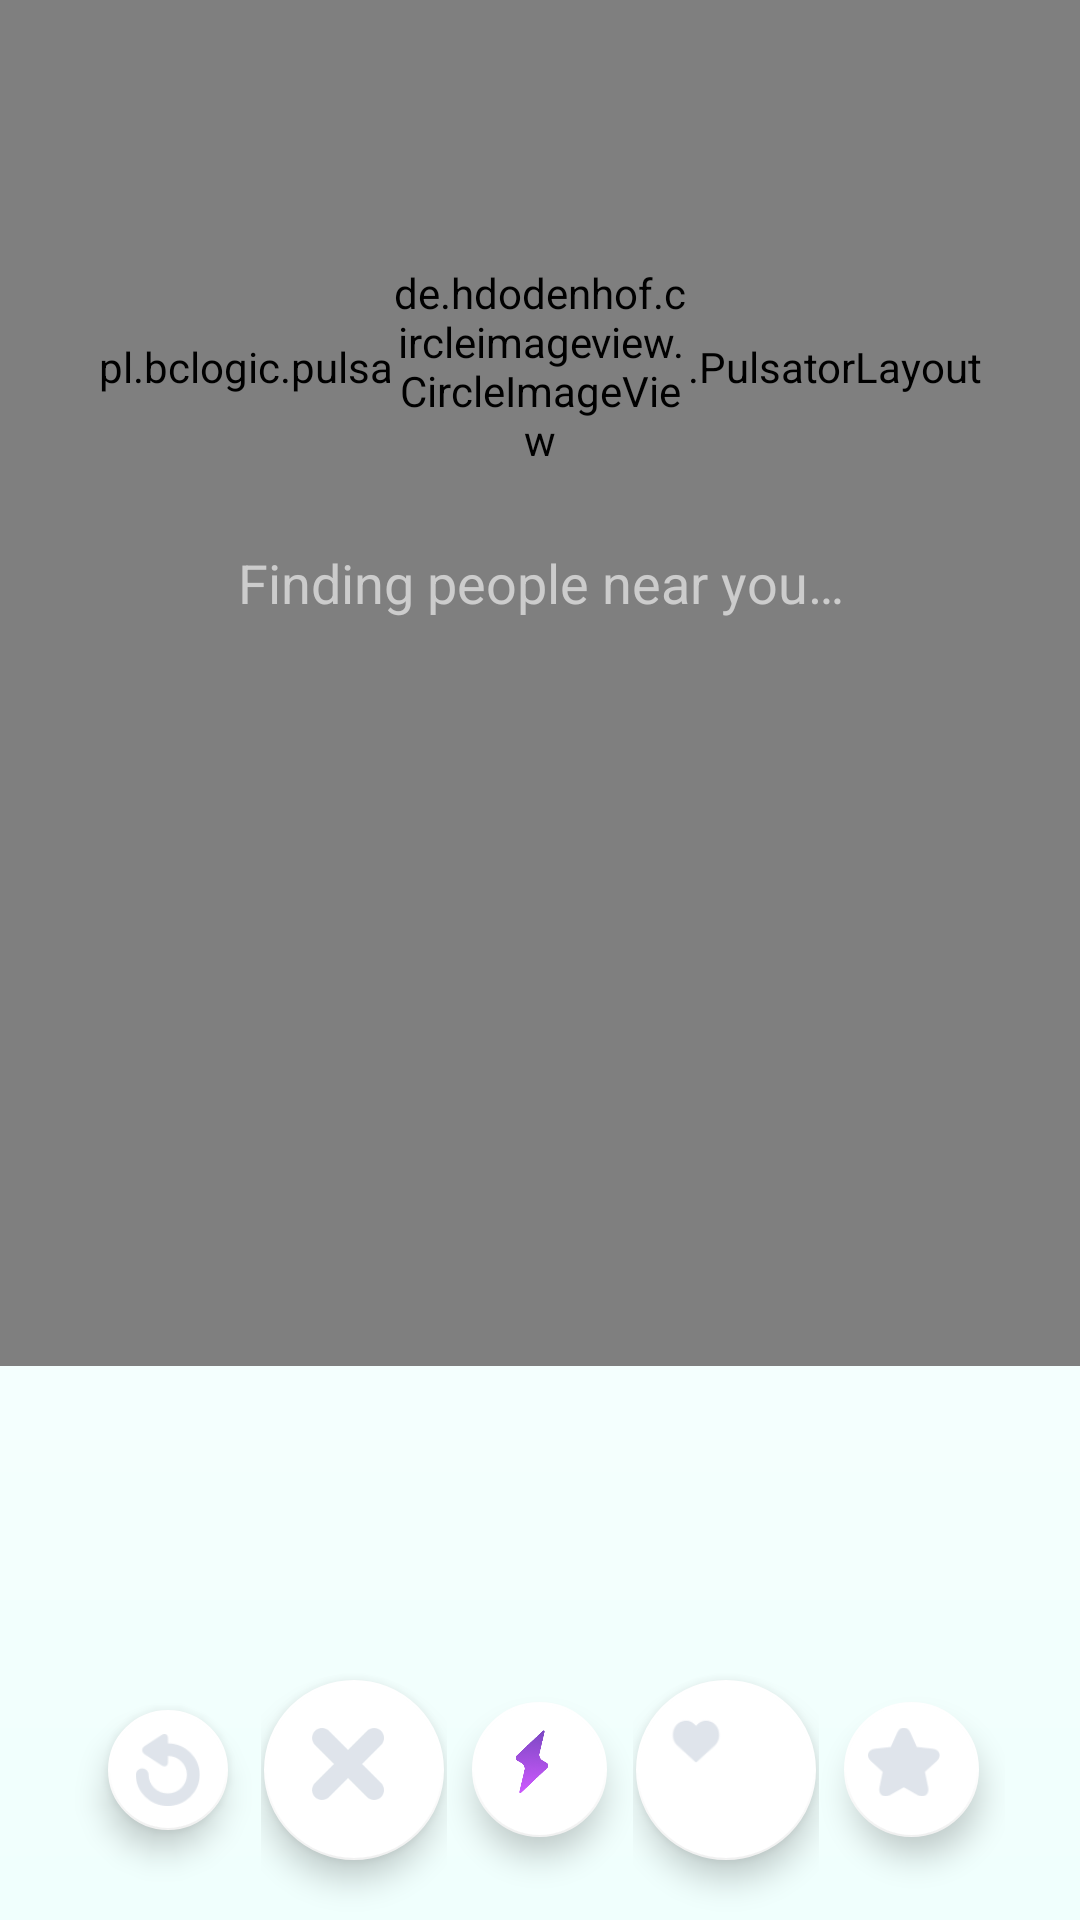

Named icons in this screenshot (1080 x 1920) and their centers, (x=x, y=y):
boost empty chat: (x=539, y=1769)
heart: (x=726, y=1770)
